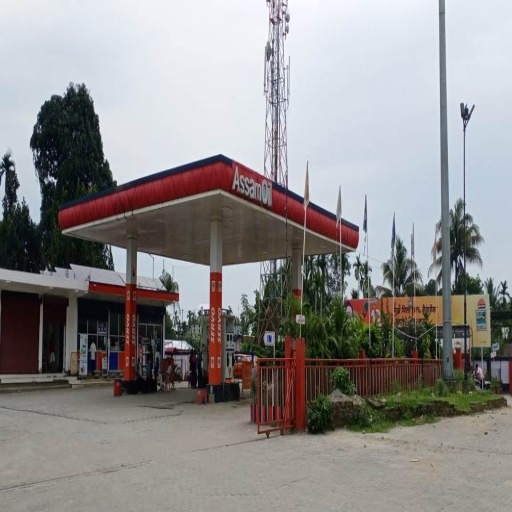roof: (62, 158, 357, 269)
